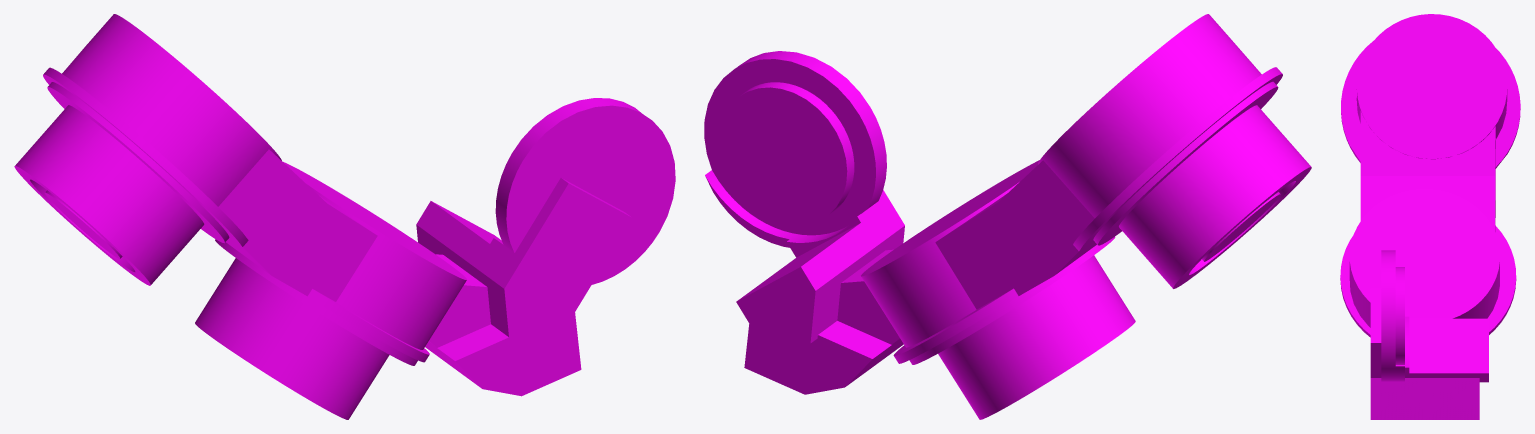
Rendered from psycheThrusterEngine1_a.obj.
3 views of the same model, side by side, from view 1: azimuth 30°, elevation 25°; view 2: azimuth 150°, elevation 25°; view 3: azimuth 270°, elevation 25° (orthographic). The views are drawn at different scales.
Size of the model in its own units: 85.18 by 56.95 by 32.54.
